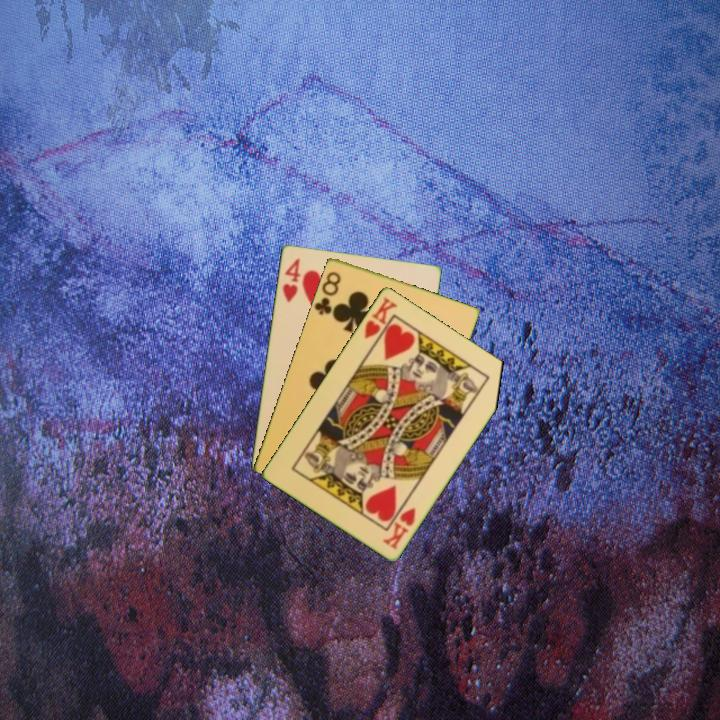4h: (279, 254, 303, 305)
8c: (311, 268, 343, 319)
Kh: (360, 293, 401, 349), (379, 503, 418, 552)
